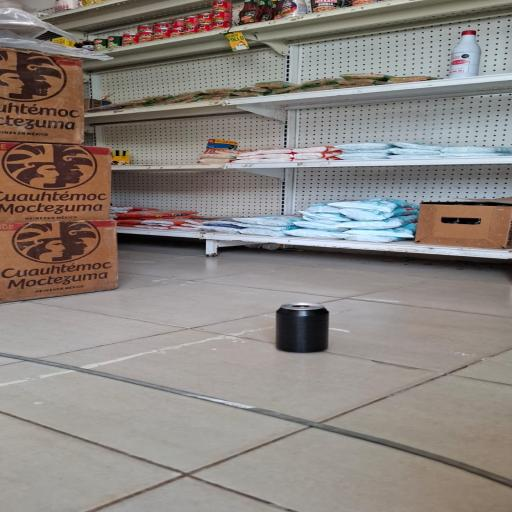LATA: (270, 304, 341, 354)
